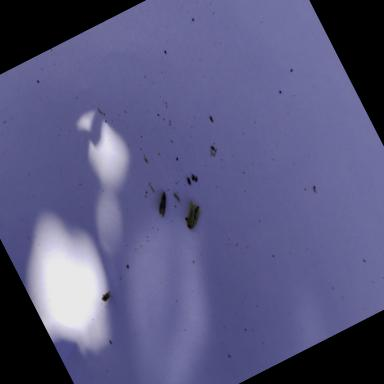pbw: (176, 198, 208, 232), (152, 192, 176, 220), (99, 290, 114, 304)
